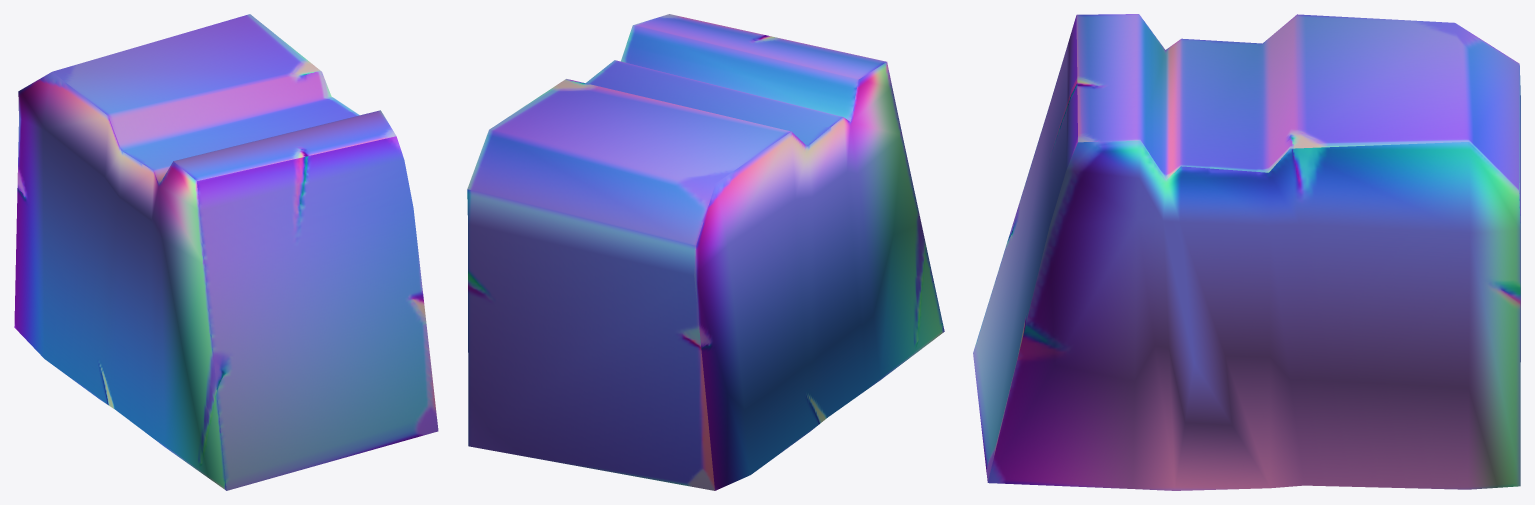
The model's file is RAI-3rdDungeonEntrance-DecorationC.fbx.
3 renders of one model, left to right at view 1: azimuth 30°, elevation 25°; view 2: azimuth 150°, elevation 25°; view 3: azimuth 270°, elevation 25°, orthographic. The views are drawn at different scales.
Visible parts, largest first — view 1: RetopoGroup1; view 2: RetopoGroup1; view 3: RetopoGroup1.
Boxes of the visible parts, x1,y1,x2,y2 form: RetopoGroup1: (14,14,438,490); RetopoGroup1: (467,14,944,490); RetopoGroup1: (973,14,1520,490).
Size of the model in its own units: 72.58 by 86.09 by 122.
